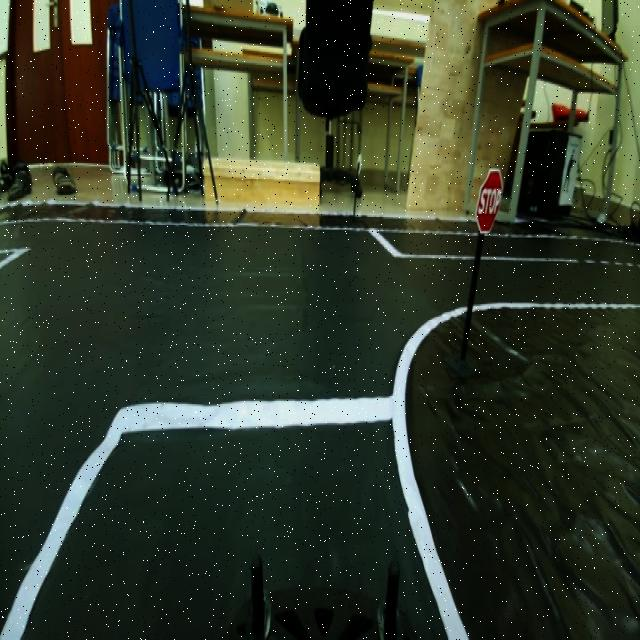stop: (474, 162, 504, 238)
